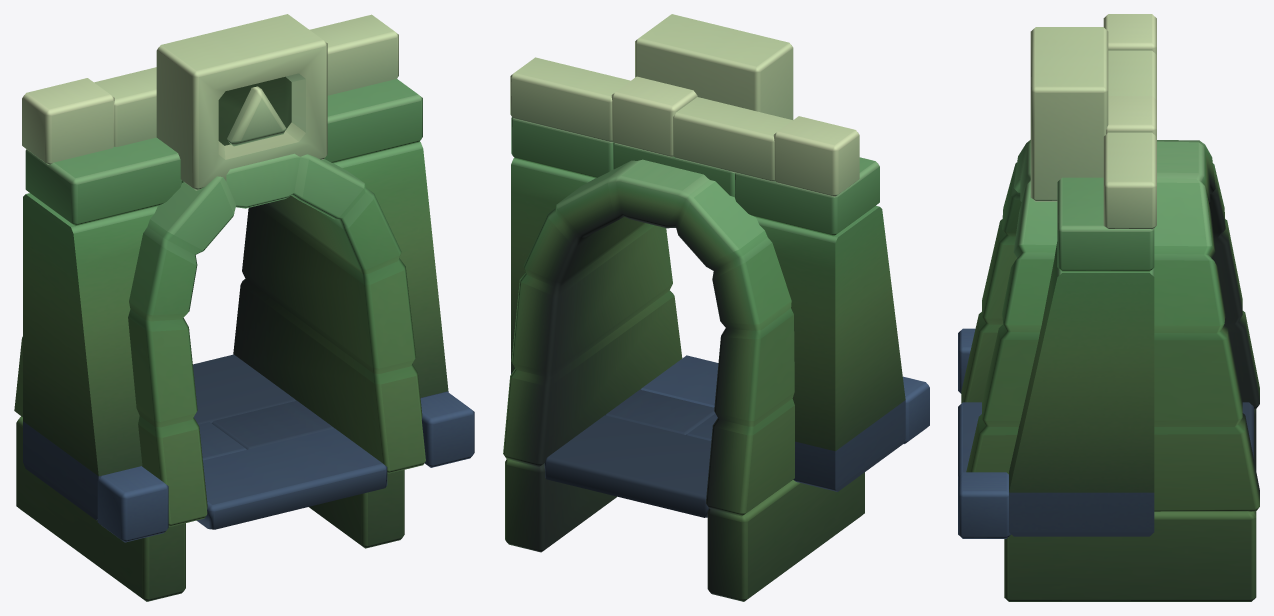
The model's file is doorway_up_wall_walkable.fbx.
3 renders of one model, left to right at view 1: azimuth 30°, elevation 25°; view 2: azimuth 150°, elevation 25°; view 3: azimuth 270°, elevation 25°, orthographic. The views are drawn at different scales.
Visible parts, largest first — view 1: doorway_up_wall_walkable; view 2: doorway_up_wall_walkable; view 3: doorway_up_wall_walkable.
Boxes of the visible parts, box(x1,y1,x2,y2) form: doorway_up_wall_walkable: box(14, 14, 474, 601); doorway_up_wall_walkable: box(503, 14, 929, 601); doorway_up_wall_walkable: box(958, 14, 1259, 601).
Size of the model in its own units: 405 by 552 by 311.
